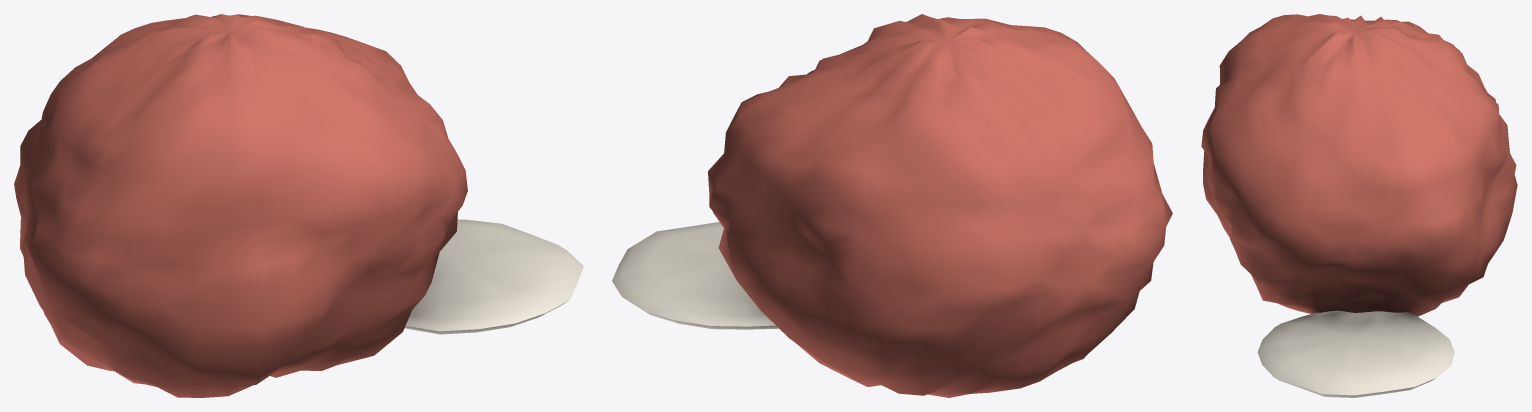
The model's file is food_truffle.glb.
The picture shows the model from 3 angles, left to right: view 1: azimuth 30°, elevation 25°; view 2: azimuth 150°, elevation 25°; view 3: azimuth 270°, elevation 25°; orthographic projection. The views are drawn at different scales.
Parts seen in each view (by area): view 1: PART; view 2: PART; view 3: PART.
Boxes of the visible parts, x1,y1,x2,y2 form: PART: (14,14,583,397); PART: (612,14,1172,397); PART: (1201,14,1517,397).
Size of the model in its own units: 0.0821 by 0.0497 by 0.0535.
